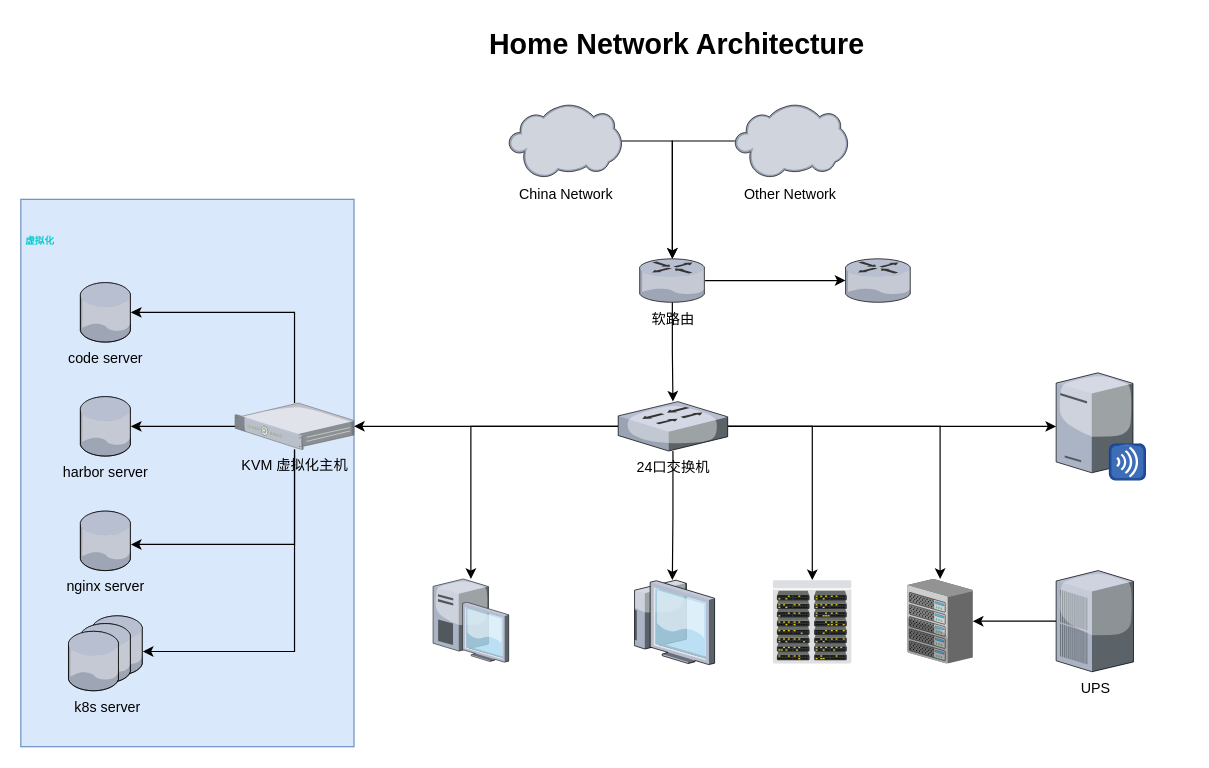
Some shapes in this 1209 by 768 pixel diagram are drawn without their labels. Each missing label, with the box of its shape:
Mac: (432, 578, 508, 662)
NAS: (907, 578, 972, 663)
TV 机顶盒: (630, 580, 714, 664)
WiFi: (1056, 372, 1145, 479)
旁路由: (845, 258, 910, 302)
树莓派集: (772, 580, 851, 663)
